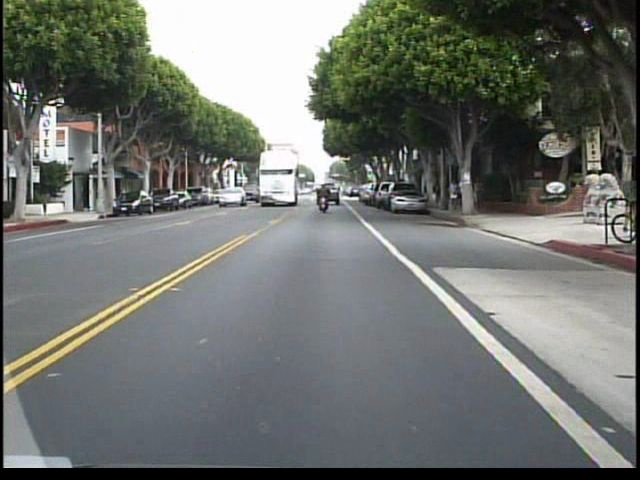person: (315, 179, 335, 218), (448, 175, 462, 212), (474, 175, 488, 210), (464, 174, 474, 211)
